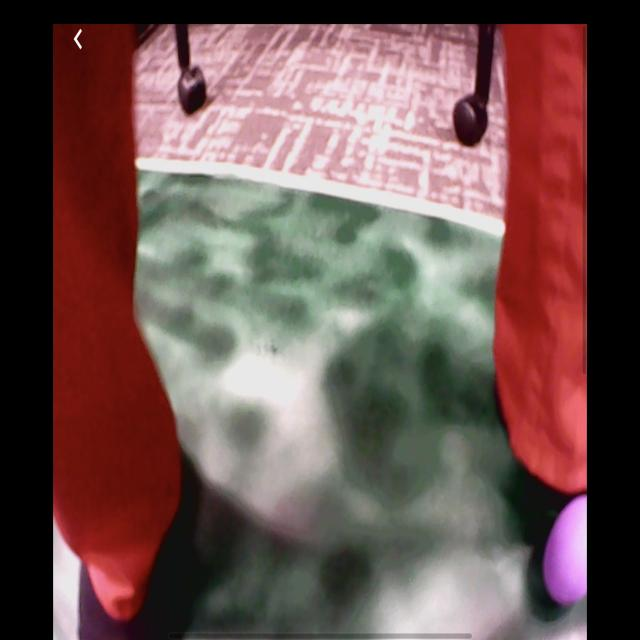ball: (546, 493, 589, 608)
